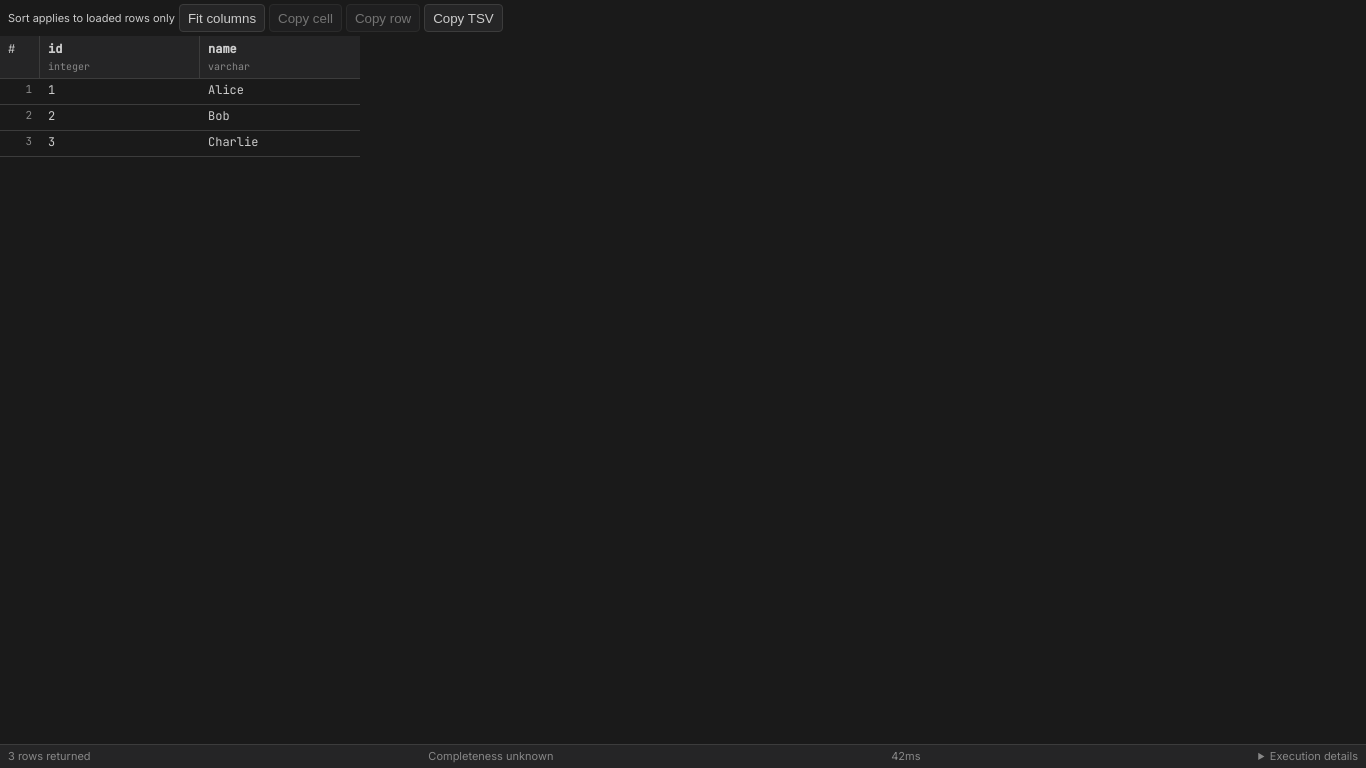
Test: DataGrid › sort cycles asc → desc → off on one column, proving row ORDER flips
Step 1. Click the column heading "name varchar" → (229, 57), box [208, 41, 250, 73]
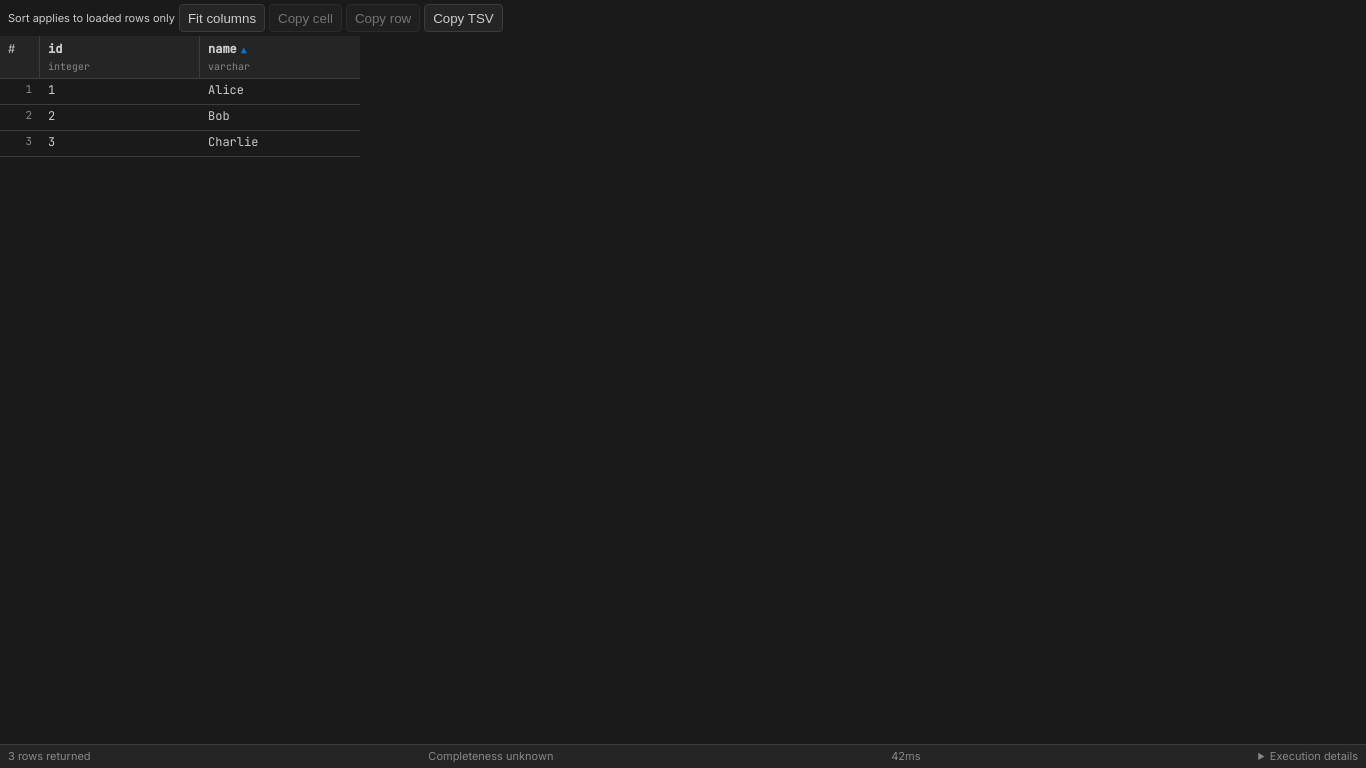
Check: the text "▲" is shown, box [241, 42, 247, 56]
Step 2. Click the column heading "name ▲ varchar" → (229, 57), box [208, 41, 250, 73]
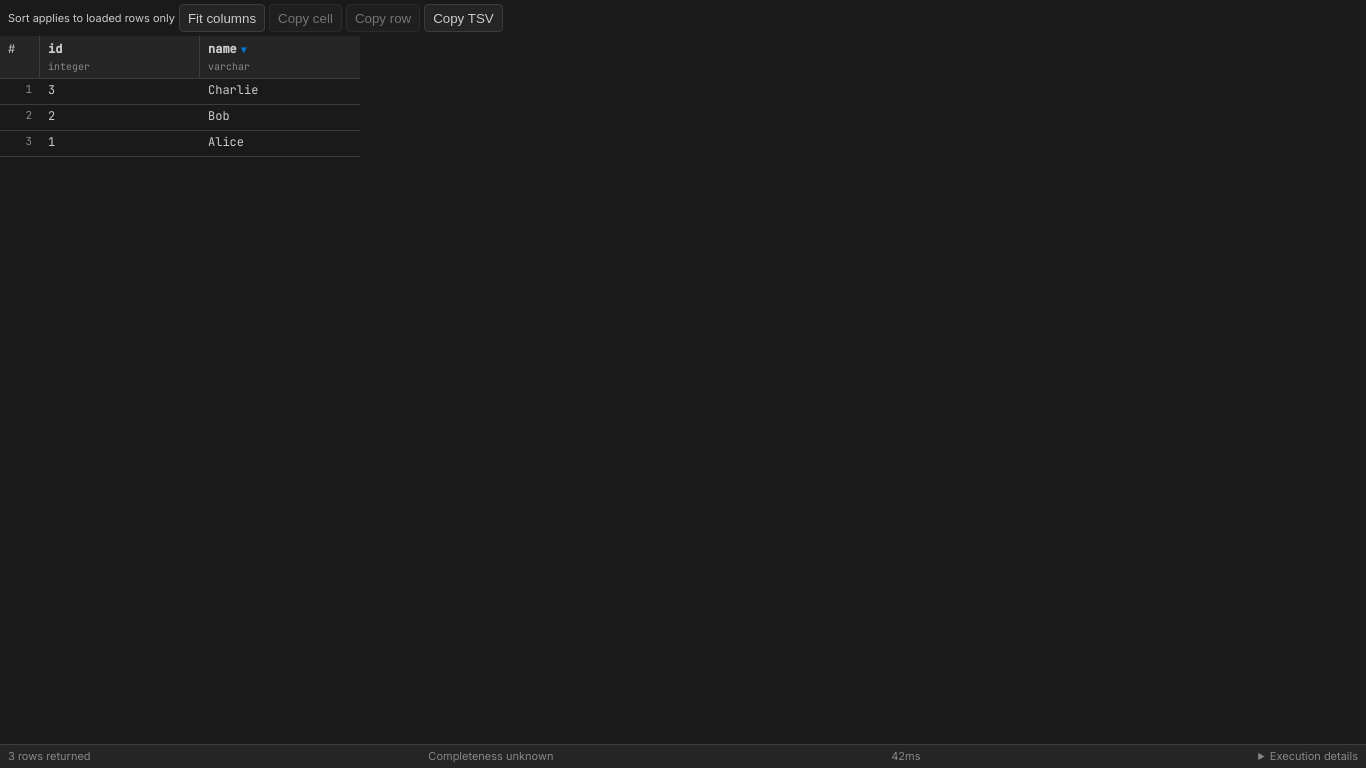
Check: the text "▼" is shown, box [241, 42, 247, 56]
Step 3. Click the column heading "name ▼ varchar" → (229, 57), box [208, 41, 250, 73]
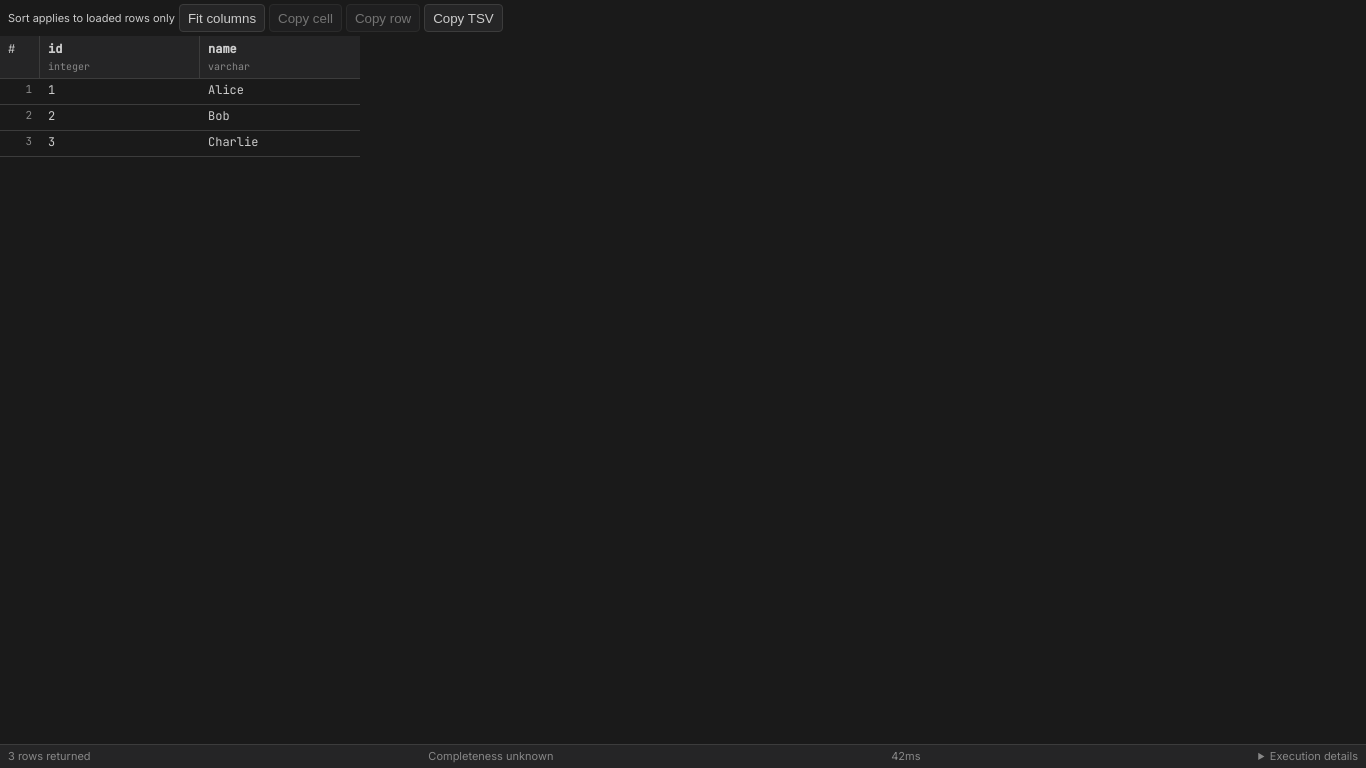
Check: the text "▲" is not shown
Check: the text "▼" is gone
